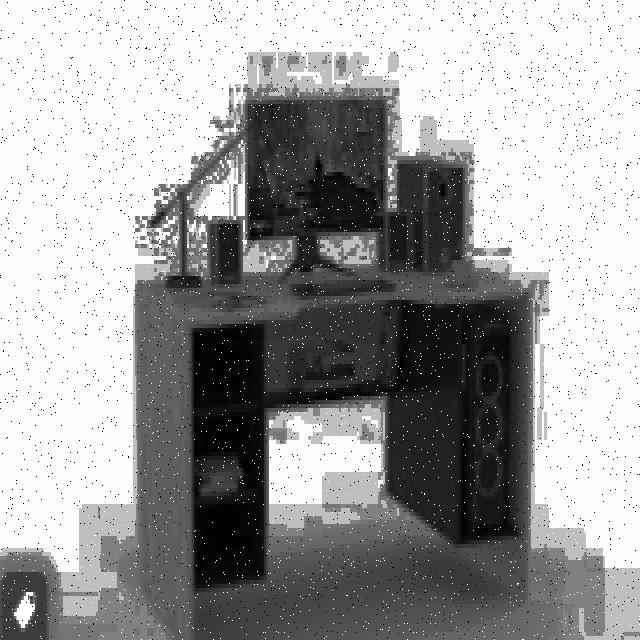table: (136, 260, 530, 640)
